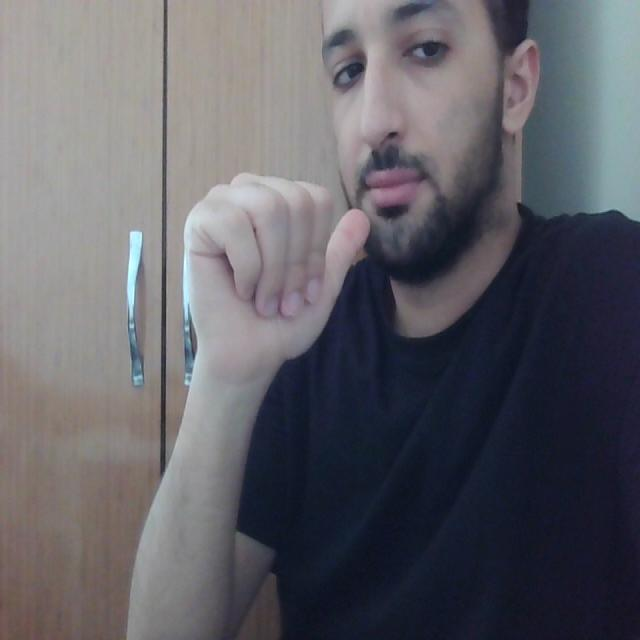icmek: (165, 148, 444, 360)
